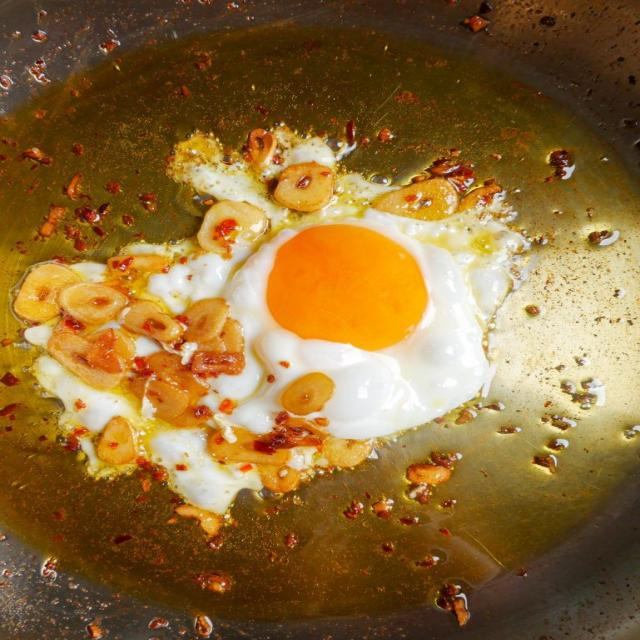Egg: (220, 210, 488, 439)
